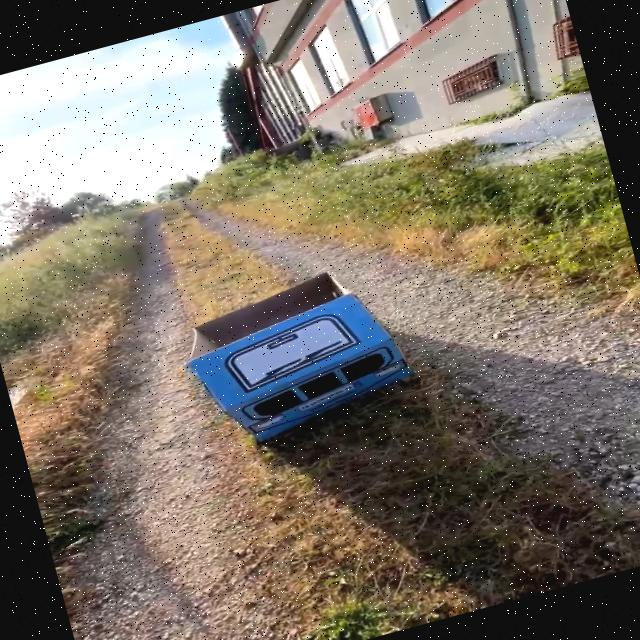blue_car: (125, 233, 446, 490)
